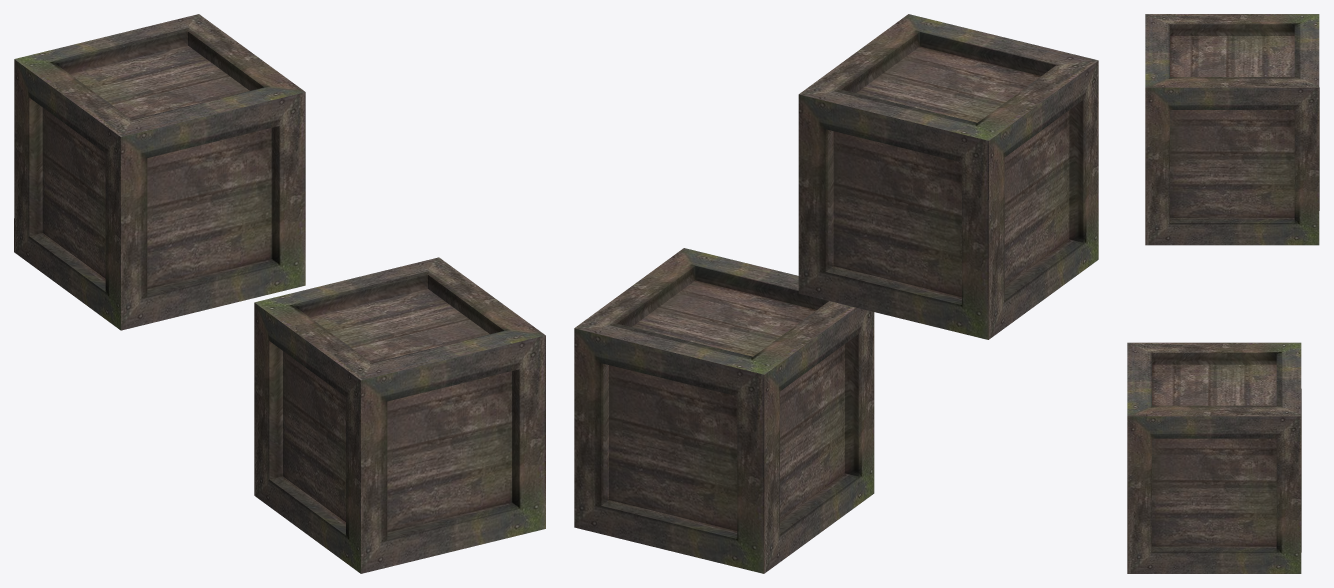
Rendered from sanduk.glb.
The picture shows the model from 3 angles, left to right: view 1: azimuth 30°, elevation 25°; view 2: azimuth 150°, elevation 25°; view 3: azimuth 270°, elevation 25°; orthographic projection. The views are drawn at different scales.
Parts seen in each view (by area): view 1: Box_10_aiStandardSurface8_0, Box_1_aiStandardSurface8_0; view 2: Box_1_aiStandardSurface8_0, Box_10_aiStandardSurface8_0; view 3: Box_1_aiStandardSurface8_0, Box_10_aiStandardSurface8_0.
Boxes of the visible parts, box(x1,y1,x2,y2) form: Box_10_aiStandardSurface8_0: box(254, 257, 545, 573); Box_1_aiStandardSurface8_0: box(14, 14, 305, 330); Box_1_aiStandardSurface8_0: box(798, 14, 1098, 339); Box_10_aiStandardSurface8_0: box(574, 248, 874, 573); Box_1_aiStandardSurface8_0: box(1145, 14, 1319, 245); Box_10_aiStandardSurface8_0: box(1127, 342, 1301, 573).
Size of the model in its own units: 61.42 by 68.73 by 30.32.
1 material, 1 textured.
